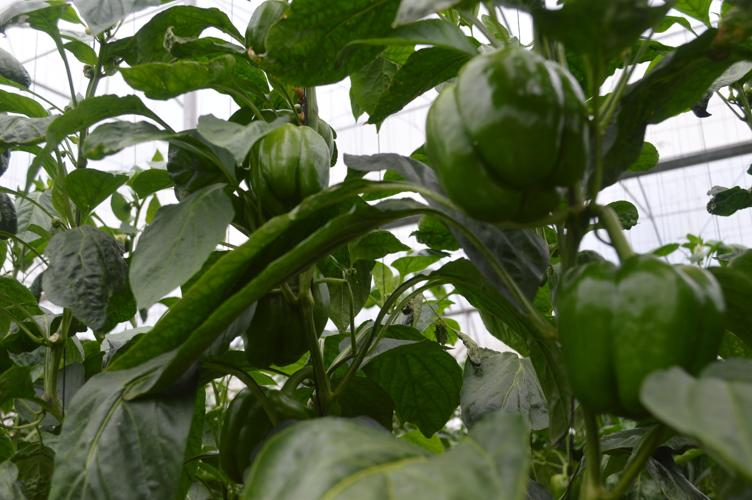BellPepper: (427, 51, 590, 217), (555, 261, 728, 413), (207, 385, 306, 474), (244, 272, 332, 366), (249, 124, 325, 216)
